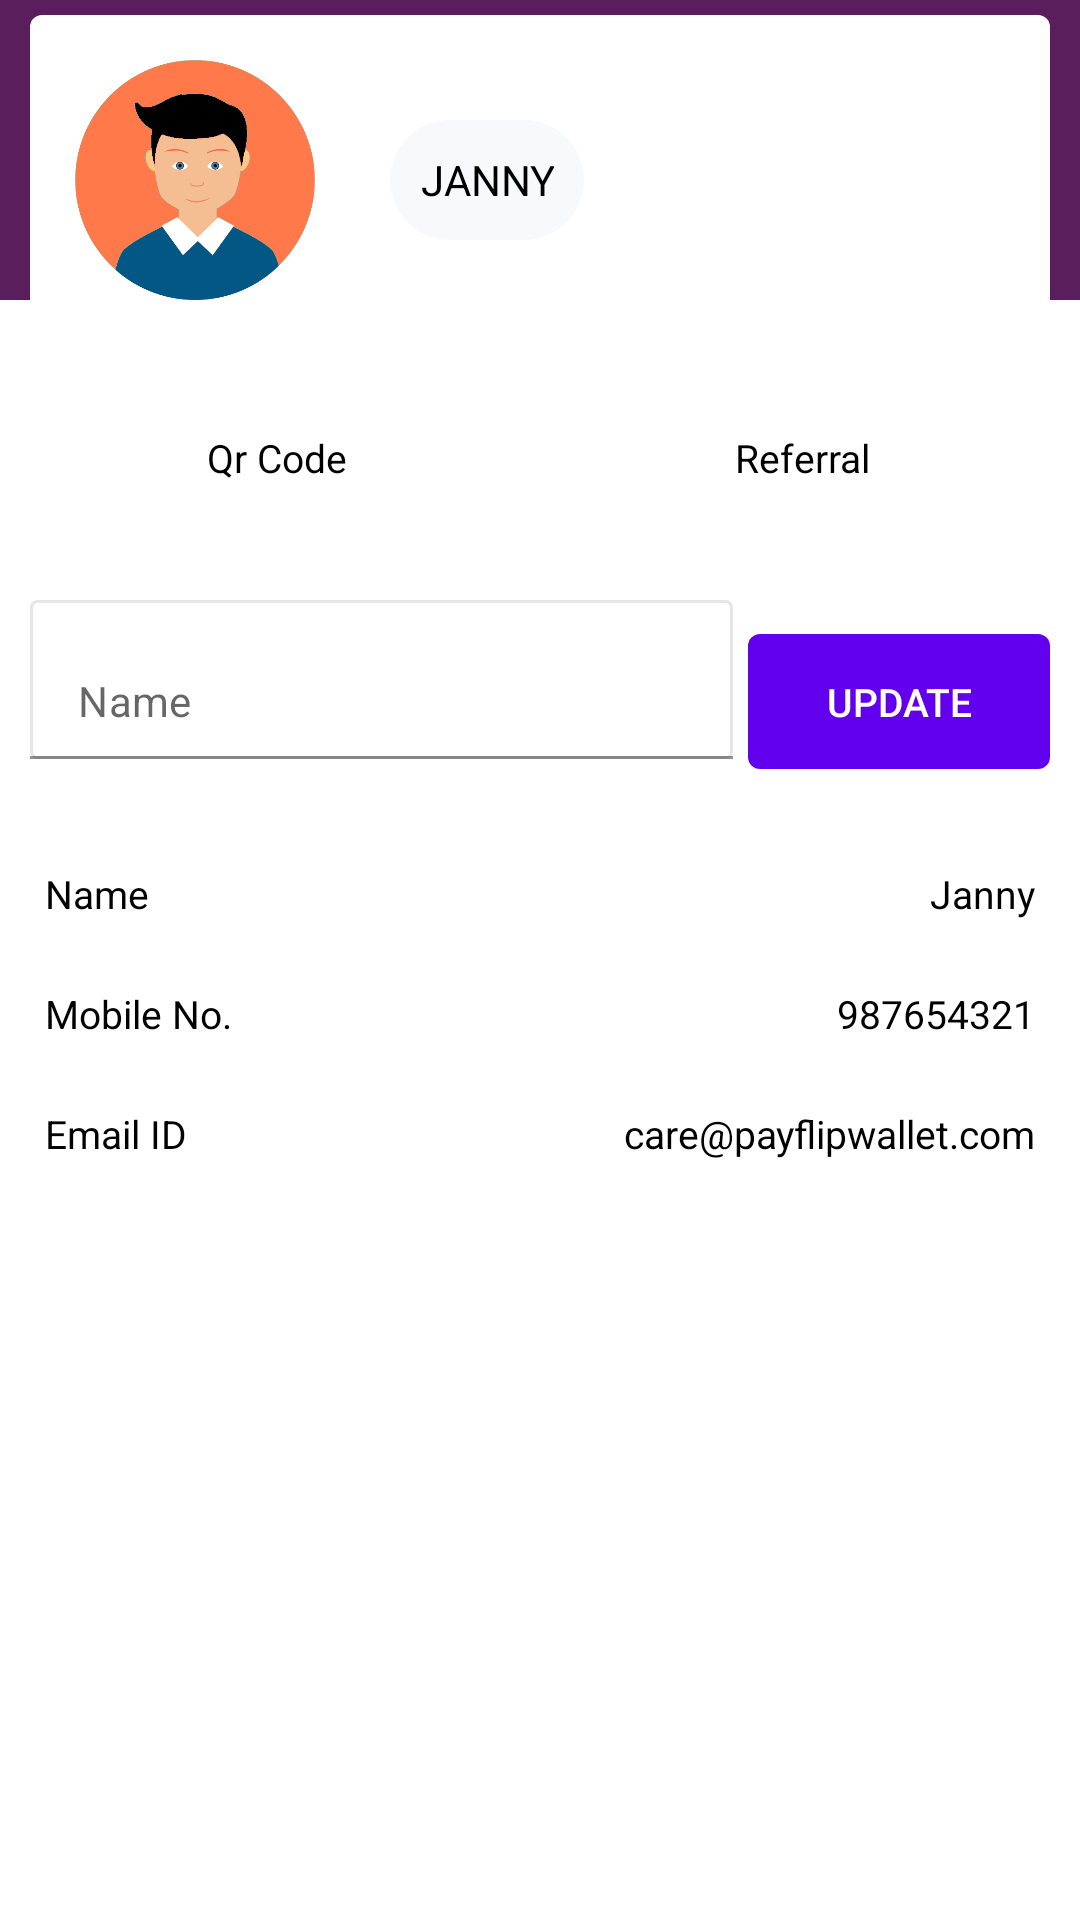

Screen size 1080 x 1920. Icon name, then its box in pixels as (x1, y1, x2, y2):
avtar: (75, 60, 315, 300)
